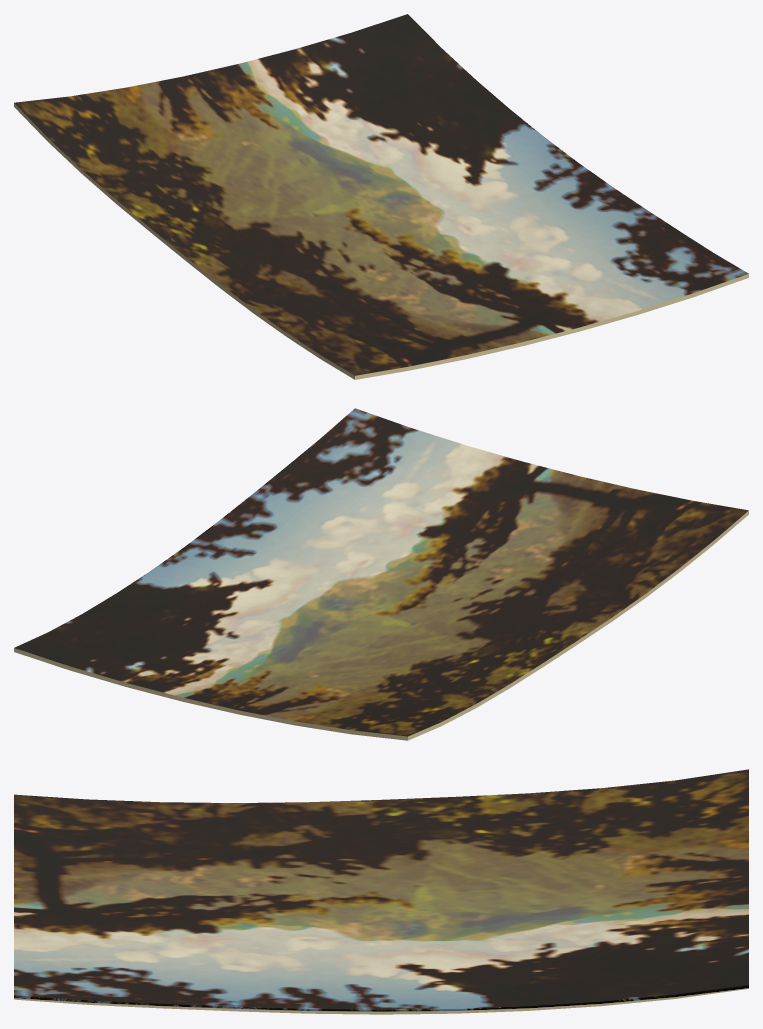
File: Cartepostale.glb
3 renders of one model, top to bottom at view 1: azimuth 30°, elevation 25°; view 2: azimuth 150°, elevation 25°; view 3: azimuth 270°, elevation 25°, orthographic. The views are drawn at different scales.
Visible parts, largest first — view 1: Cartepostale; view 2: Cartepostale; view 3: Cartepostale.
Part boxes in pixels (left/top/right/bottom): Cartepostale: left=14, top=14, right=748, bottom=379; Cartepostale: left=14, top=408, right=748, bottom=740; Cartepostale: left=14, top=769, right=748, bottom=1014.
Size of the model in its own units: 2 by 0.2044 by 3.
1 material, 1 textured.
